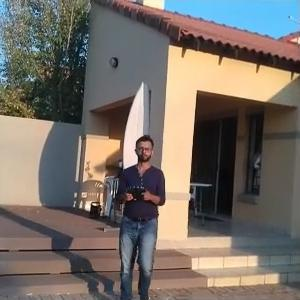follow: (110, 131, 169, 298)
